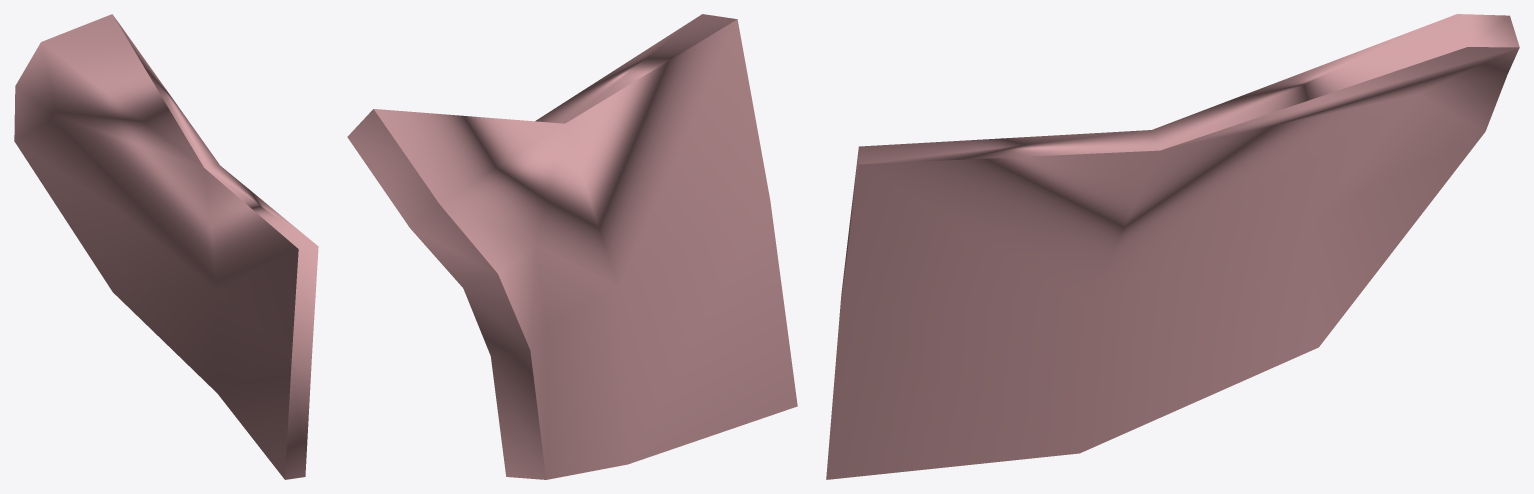
3 renders of one model, left to right at view 1: azimuth 30°, elevation 25°; view 2: azimuth 150°, elevation 25°; view 3: azimuth 270°, elevation 25°, orthographic. The views are drawn at different scales.
Visible parts, largest first — view 1: ZA_d7a787252beef357; view 2: ZA_d7a787252beef357; view 3: ZA_d7a787252beef357.
Boxes of the visible parts, x1,y1,x2,y2 form: ZA_d7a787252beef357: (14, 14, 318, 479); ZA_d7a787252beef357: (347, 14, 797, 479); ZA_d7a787252beef357: (826, 14, 1519, 479).
Bounding box in the file's own units: 0.0157 × 0.0447 × 0.0591.
